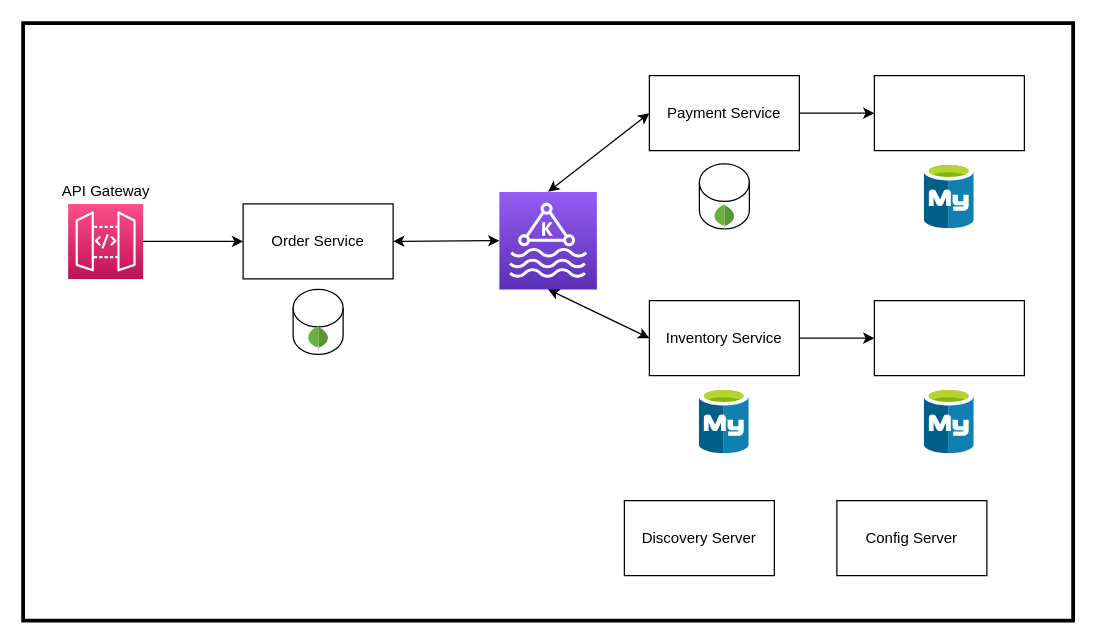
The diagram is 1096 pixels wide and 644 high, and some of its shapes have lost their labels. The shapes that lost their labels are listed below. From the top down, each one's centre as x and y in pixels, then its label:
(948,112): Customer Service
(948,337): Product Service
